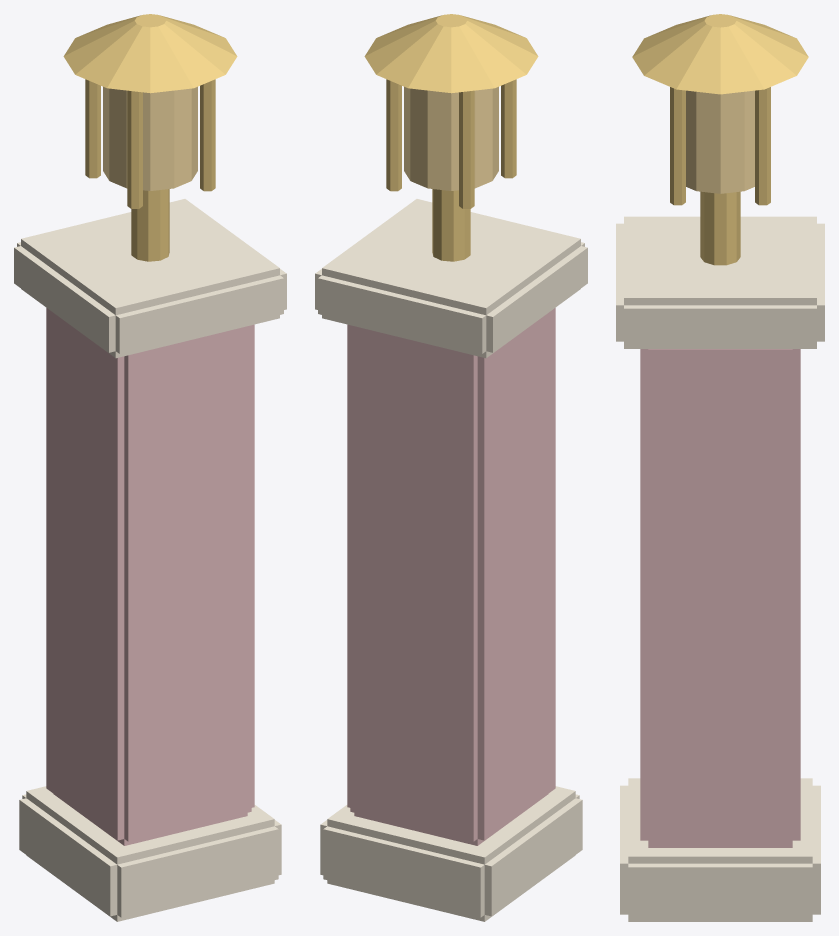
The model's file is HOB_Pillar_Lamp.fbx.
The picture shows the model from 3 angles, left to right: view 1: azimuth 30°, elevation 25°; view 2: azimuth 150°, elevation 25°; view 3: azimuth 270°, elevation 25°; orthographic projection.
Parts seen in each view (by area): view 1: HOB_Pillar_Lamp; view 2: HOB_Pillar_Lamp; view 3: HOB_Pillar_Lamp.
Part boxes in pixels (x1,y1,x2,y2): HOB_Pillar_Lamp: (14, 14, 286, 921); HOB_Pillar_Lamp: (315, 14, 587, 921); HOB_Pillar_Lamp: (616, 14, 824, 921).
Size of the model in its own units: 52 by 237 by 52.
